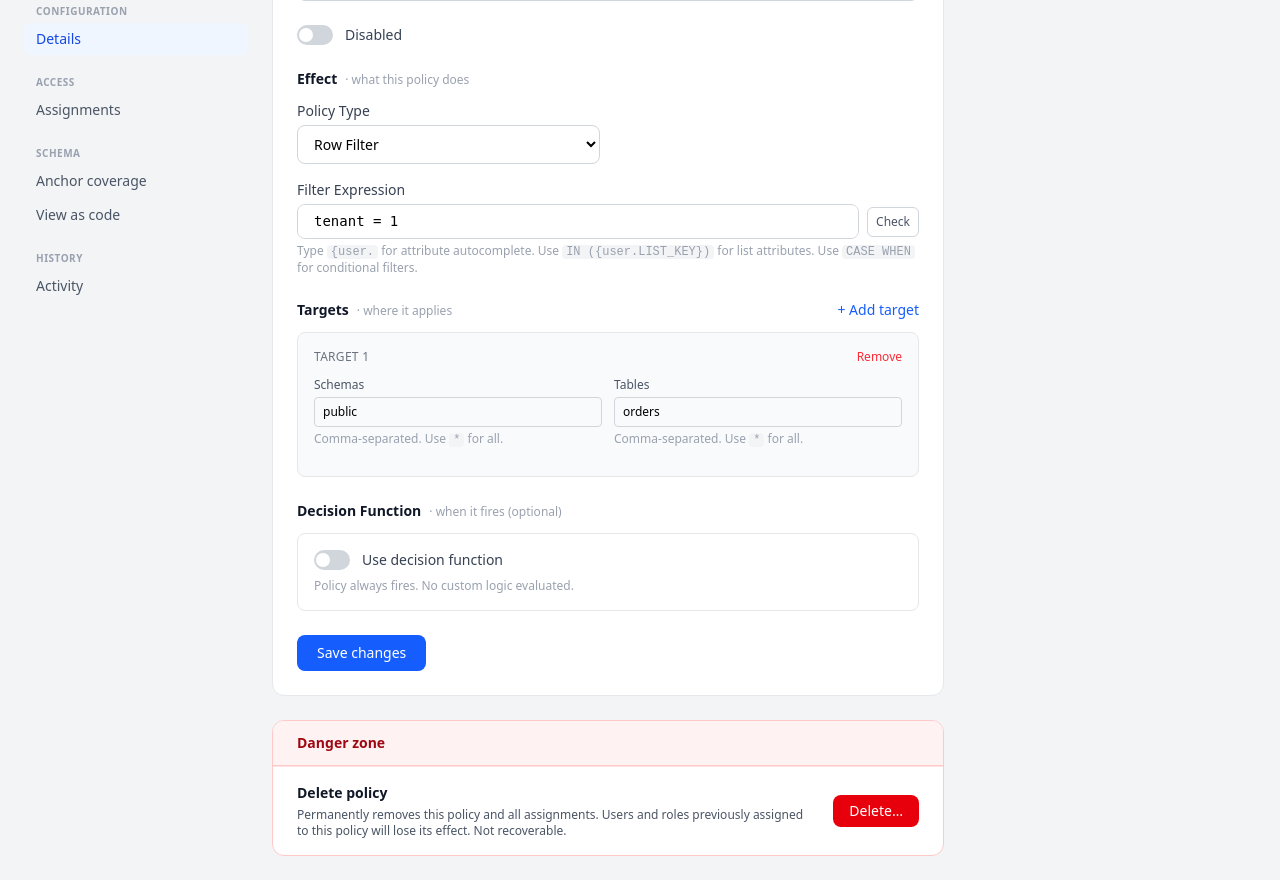
PolicyEditPage — danger zone › Delete button is disabled until the typed name matches exactly
(page scrolled)
Click the button "Delete…" at [876, 811], box [833, 795, 919, 827]
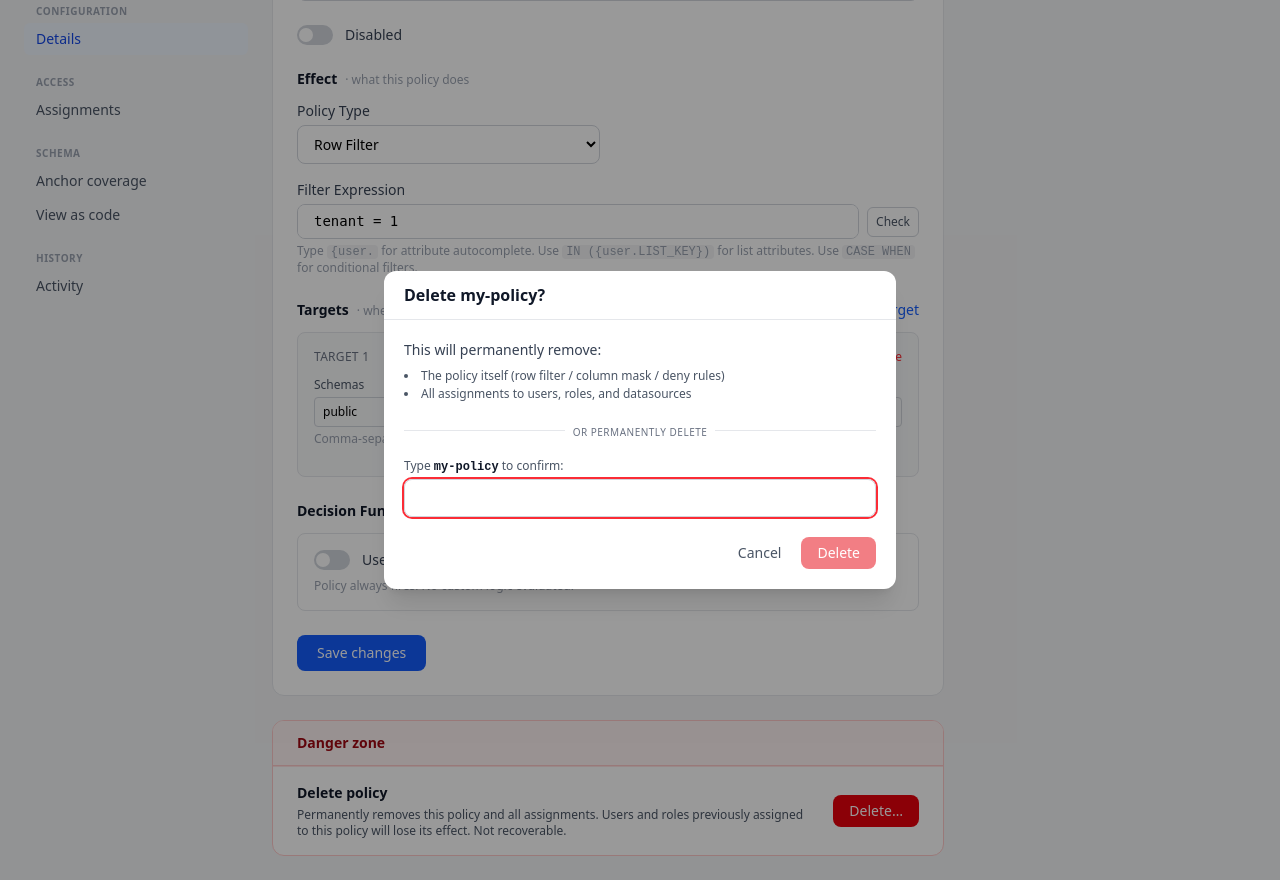
Expected: the button "Delete" is disabled, [801, 537, 876, 569]
Type "my-policy" into the field at [640, 498], box [404, 479, 876, 517]
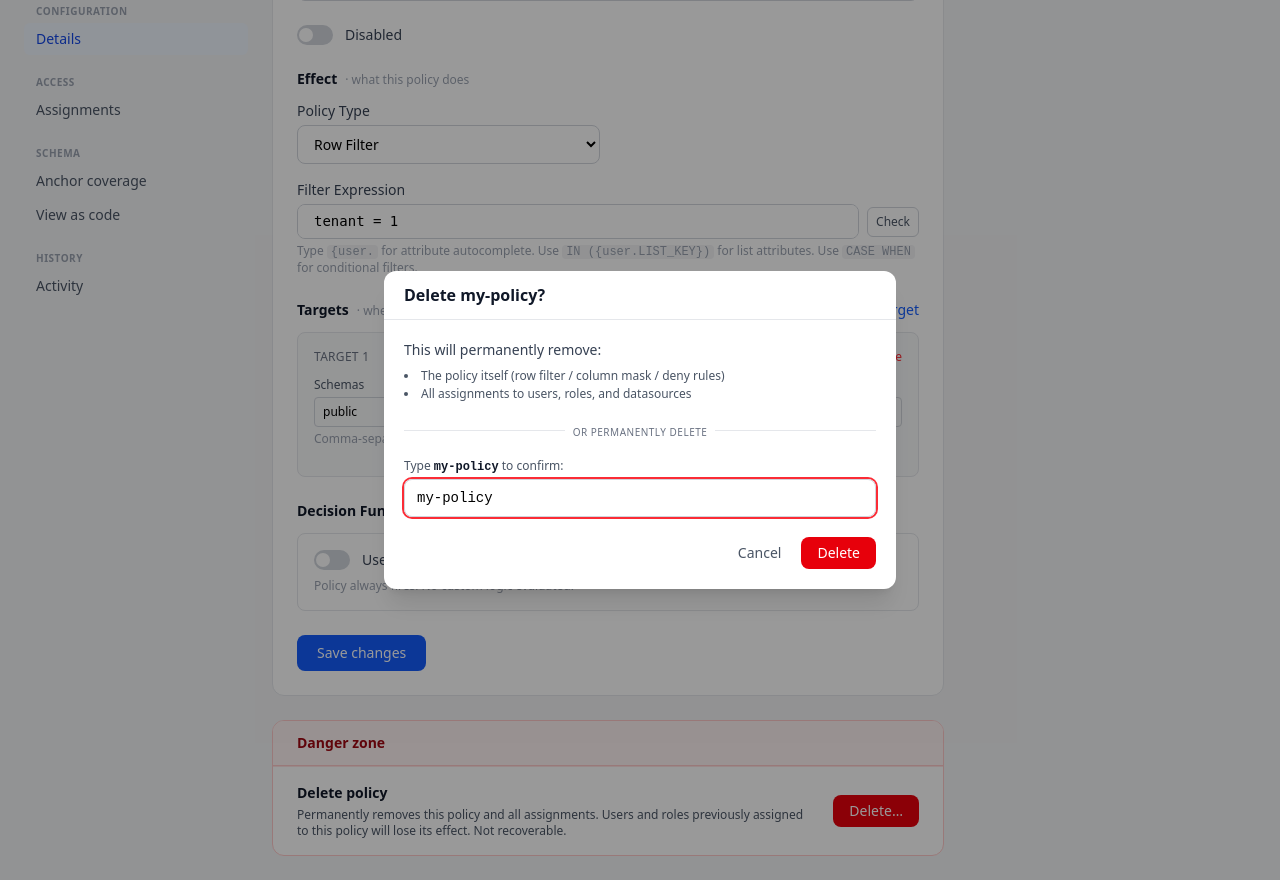
Expected: the button "Delete" is enabled, [801, 537, 876, 569]
